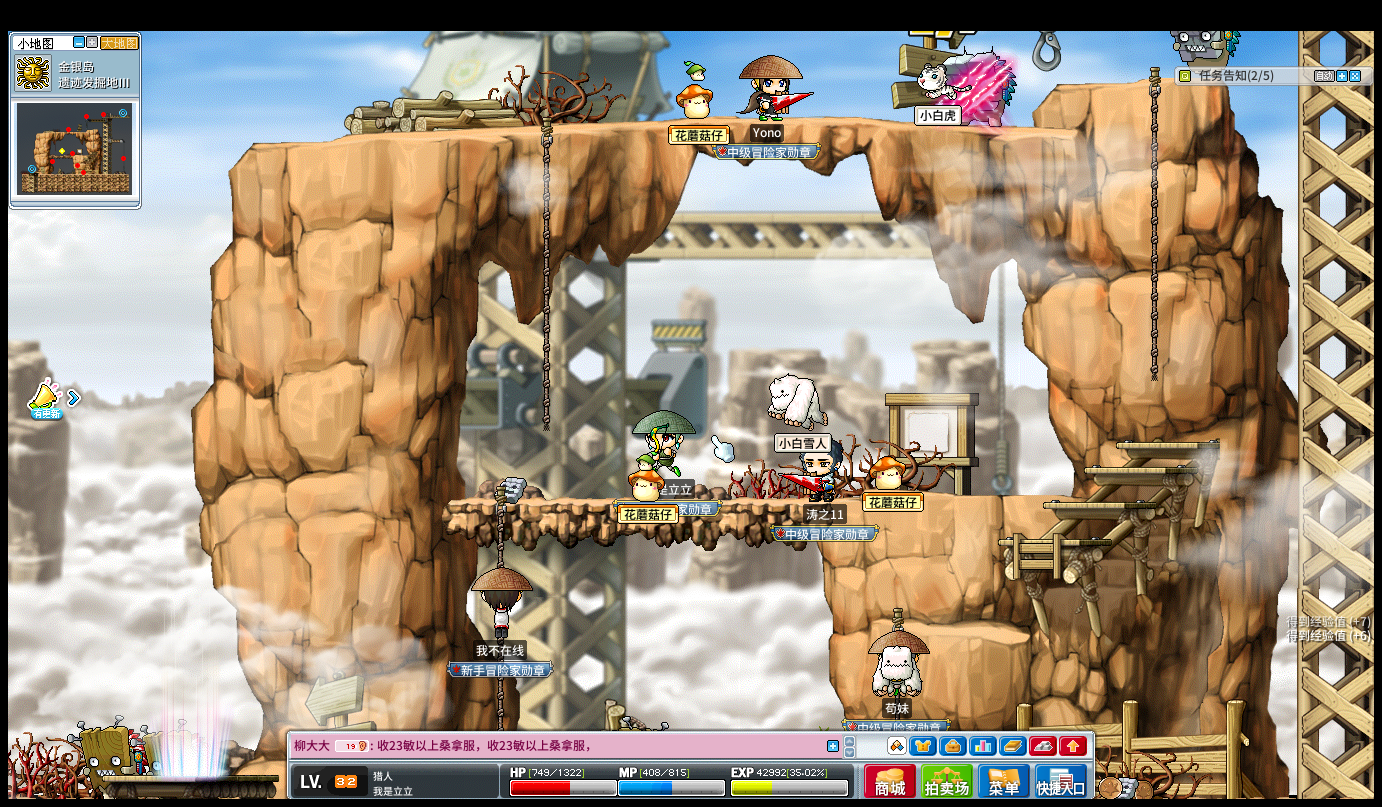floor: (232, 111, 1078, 146), (445, 497, 826, 508), (923, 622, 1030, 644), (1051, 75, 1176, 90), (925, 491, 1076, 501), (997, 533, 1107, 545), (1114, 438, 1218, 450), (1040, 498, 1154, 508), (1048, 500, 1158, 510), (1077, 464, 1194, 473)
monster: (70, 717, 148, 787)
rope: (1146, 63, 1160, 386), (539, 113, 551, 431), (491, 490, 506, 567)
